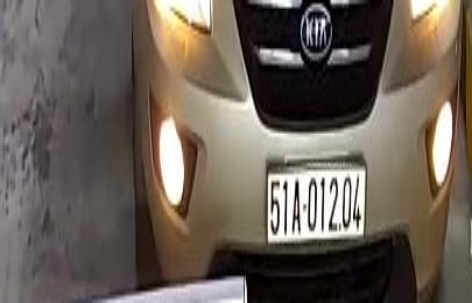plate: (264, 157, 365, 242)
